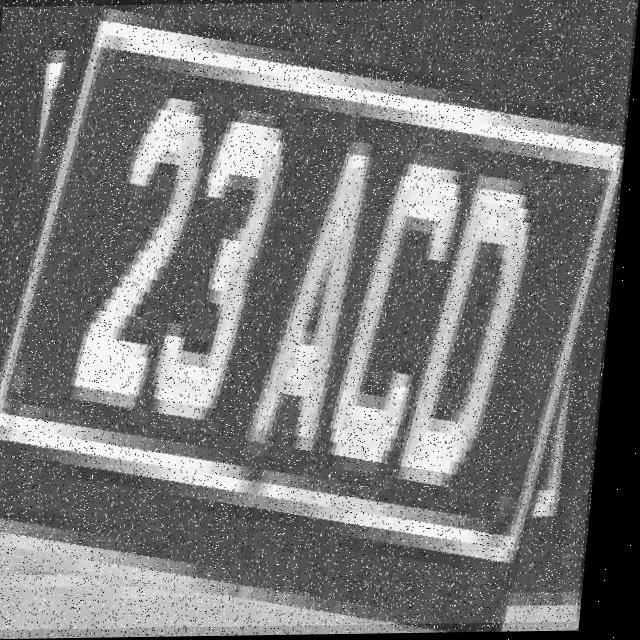LicensePlate: (0, 0, 636, 631)
